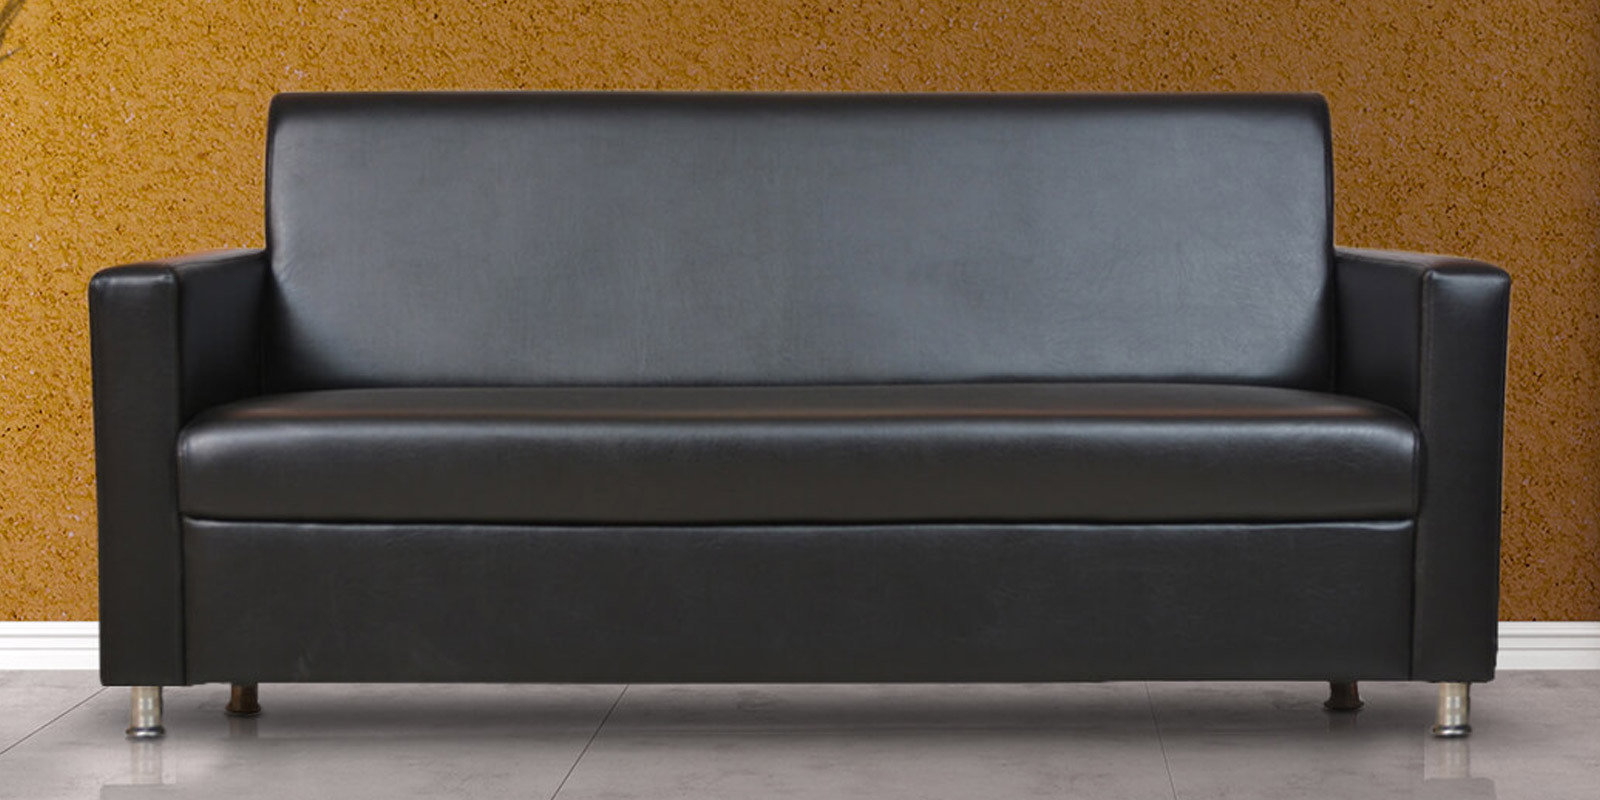Felix Three Seater Sofa in Black Leatherette by Crystal Furnitech: (79, 81, 1524, 760)
